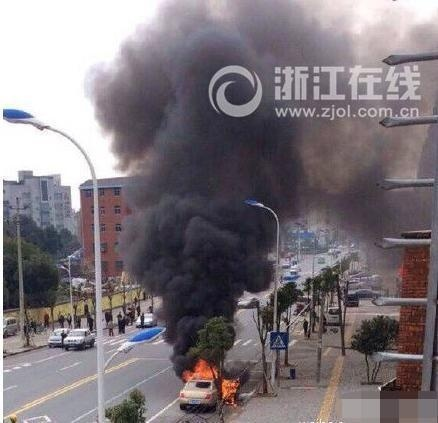fire: (180, 357, 240, 400)
